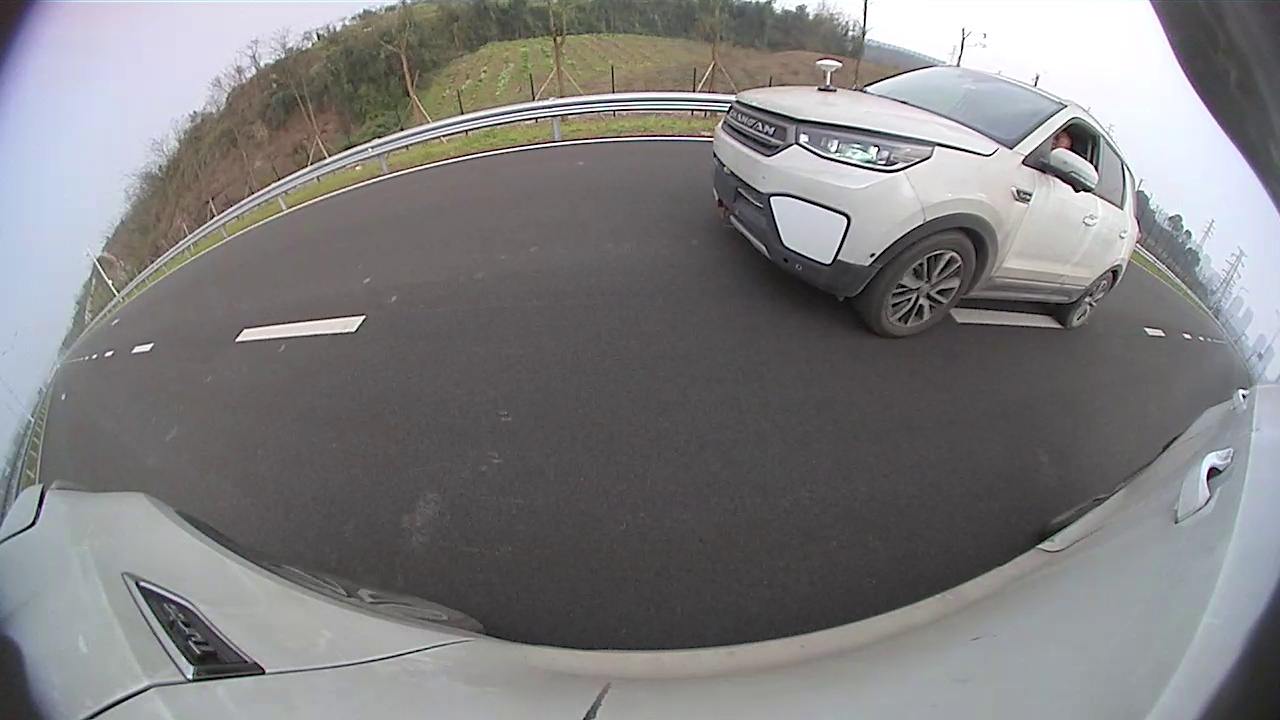car: (711, 57, 1141, 338)
front: (874, 233, 974, 335)
rear: (1064, 272, 1114, 331)
